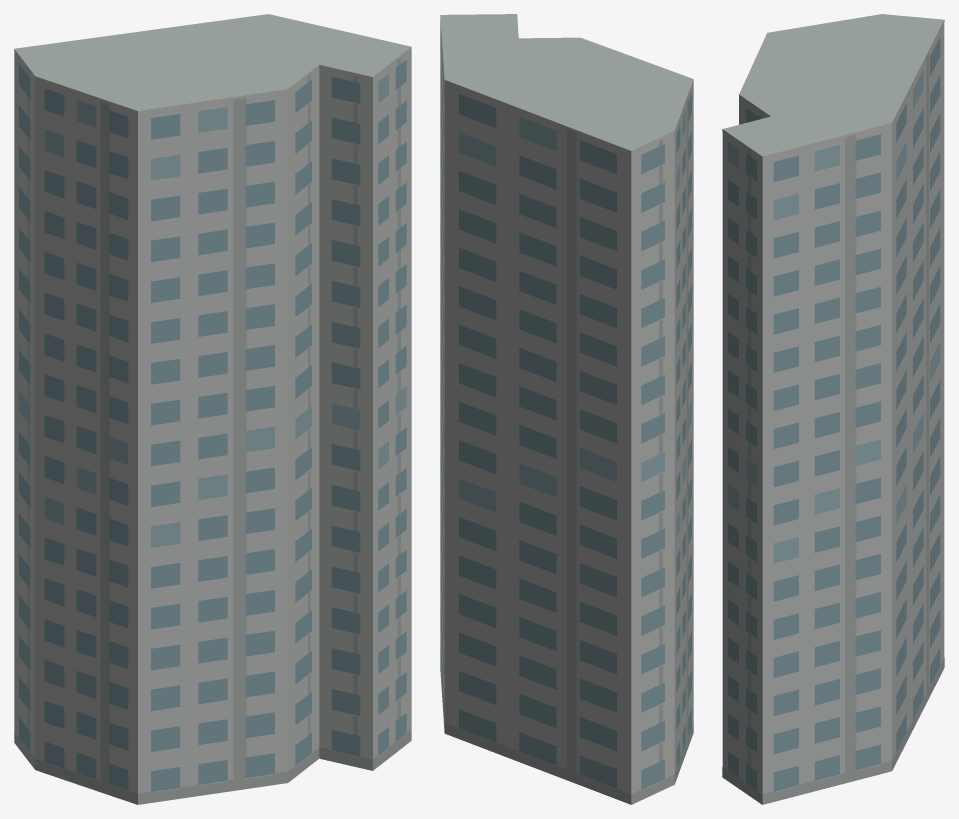
The model's file is residential-461ab8a6-c34d-4bfe-9748-cc223a2838d3.glb.
The picture shows the model from 3 angles, left to right: view 1: azimuth 30°, elevation 25°; view 2: azimuth 150°, elevation 25°; view 3: azimuth 270°, elevation 25°; orthographic projection. The views are drawn at different scales.
Visible parts, largest first — view 1: residential-461ab8a6-c34d-4bfe-9748-cc223a2838d3.tmp; view 2: residential-461ab8a6-c34d-4bfe-9748-cc223a2838d3.tmp; view 3: residential-461ab8a6-c34d-4bfe-9748-cc223a2838d3.tmp.
Boxes of the visible parts, left/top/right/bottom form: residential-461ab8a6-c34d-4bfe-9748-cc223a2838d3.tmp: left=14, top=14, right=411, bottom=804; residential-461ab8a6-c34d-4bfe-9748-cc223a2838d3.tmp: left=440, top=14, right=693, bottom=804; residential-461ab8a6-c34d-4bfe-9748-cc223a2838d3.tmp: left=722, top=14, right=944, bottom=804.
Size of the model in its own units: 30.18 by 64 by 19.86.
